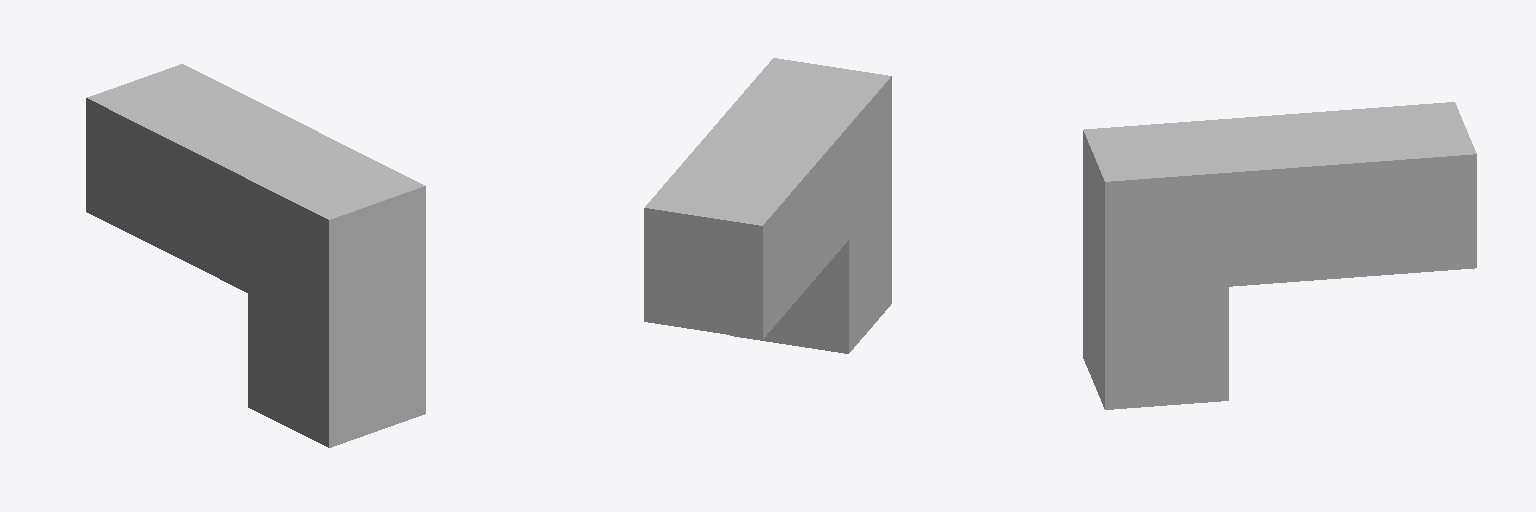
The model's file is gunUsing.obj.
The picture shows the model from 3 angles: view 1: azimuth 30°, elevation 25°; view 2: azimuth 150°, elevation 25°; view 3: azimuth 270°, elevation 25°; orthographic projection.
Parts seen in each view (by area): view 1: gun:pCube1 gun:pCube2 gun:polySurface1, gun:pCube1 gun:pCube4 gun:polySurface1, gun:pCube1 gun:pCube3 gun:polySurface1, gun:pCube1 gun:polySurface1; view 2: gun:pCube1 gun:pCube3 gun:polySurface1, gun:pCube1 gun:pCube2 gun:polySurface1, gun:pCube1 gun:polySurface1, gun:pCube1 gun:pCube4 gun:polySurface1; view 3: gun:pCube1 gun:pCube2 gun:polySurface1, gun:pCube1 gun:polySurface1, gun:pCube1 gun:pCube3 gun:polySurface1, gun:pCube1 gun:pCube4 gun:polySurface1.
Part boxes in pixels (x1,y1,x2,y2): gun:pCube1 gun:pCube2 gun:polySurface1: (248,145,425,333); gun:pCube1 gun:pCube4 gun:polySurface1: (248,294,425,447); gun:pCube1 gun:pCube3 gun:polySurface1: (86,64,263,251); gun:pCube1 gun:polySurface1: (167,105,343,292); gun:pCube1 gun:pCube3 gun:polySurface1: (644,158,805,339); gun:pCube1 gun:pCube2 gun:polySurface1: (731,58,891,238); gun:pCube1 gun:polySurface1: (688,108,848,288); gun:pCube1 gun:pCube4 gun:polySurface1: (730,190,891,353); gun:pCube1 gun:pCube2 gun:polySurface1: (1083,120,1228,295); gun:pCube1 gun:polySurface1: (1207,111,1352,286); gun:pCube1 gun:pCube3 gun:polySurface1: (1331,102,1476,277); gun:pCube1 gun:pCube4 gun:polySurface1: (1083,245,1228,409).
Size of the model in its own units: 1.51 by 2 by 3.13.